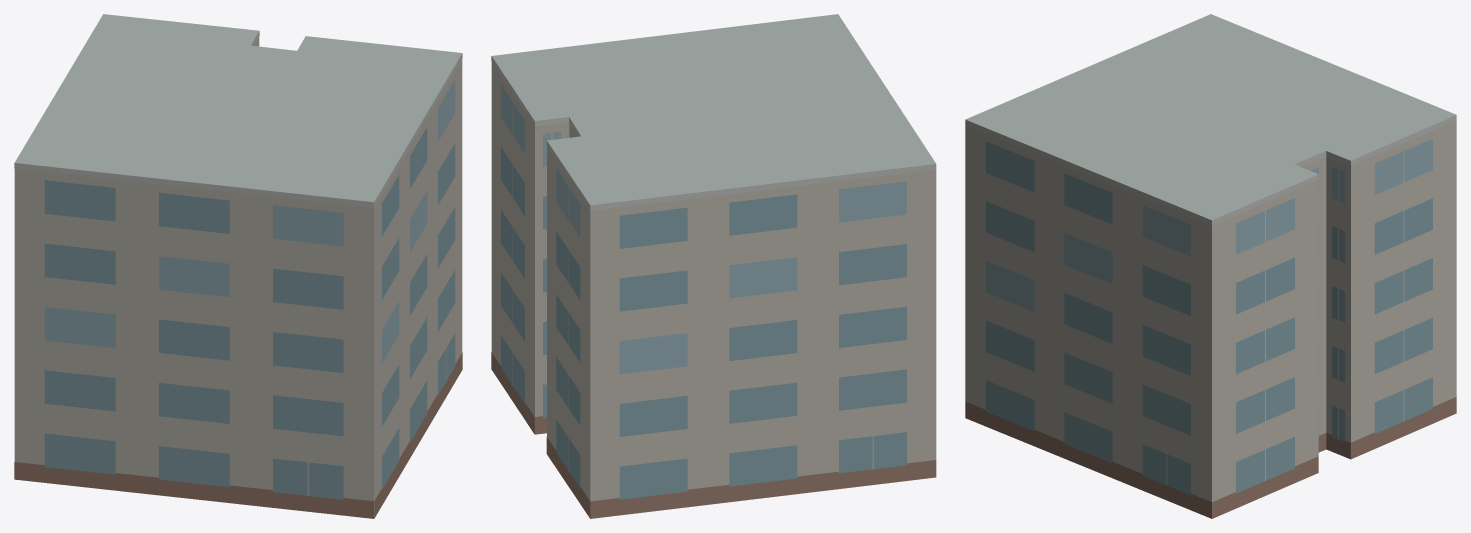
The model's file is survey-upis-32648310.glb.
The picture shows the model from 3 angles, left to right: view 1: azimuth 30°, elevation 25°; view 2: azimuth 150°, elevation 25°; view 3: azimuth 270°, elevation 25°; orthographic projection. The views are drawn at different scales.
Visible parts, largest first — view 1: survey-upis-32648310.tmp; view 2: survey-upis-32648310.tmp; view 3: survey-upis-32648310.tmp.
Part boxes in pixels (x1,y1,x2,y2): survey-upis-32648310.tmp: (14, 14, 462, 518); survey-upis-32648310.tmp: (491, 14, 936, 518); survey-upis-32648310.tmp: (965, 14, 1456, 518).
Bounding box in the file's own units: 20.32 × 13.7 × 20.45.
